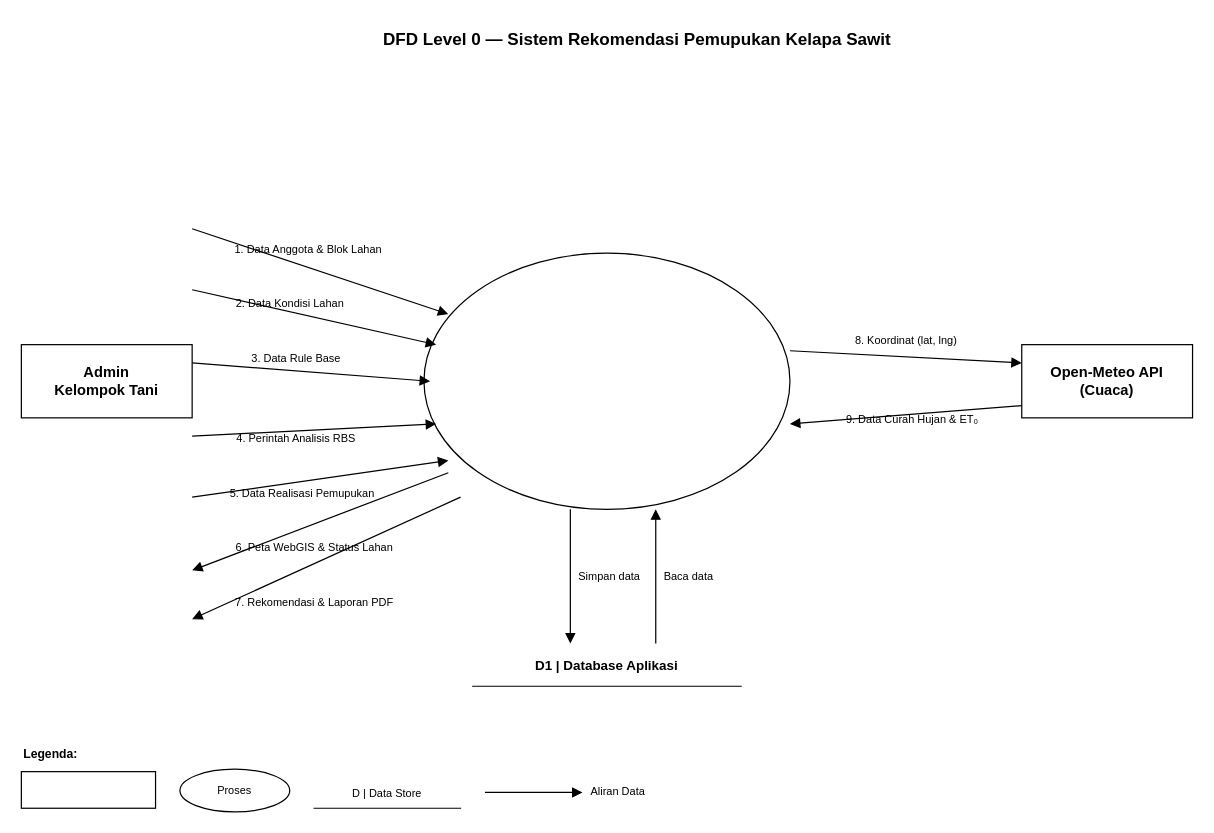
Image size: 1214x833. Some labels were removed from this diagram. The centre of each missing label's shape, as x and y in pixels:
"0 Sistem Rekomendasi Pemupukan Kelapa Sawit (WebGIS & RBS)" goes at pixel 606 380.
"Entitas Eksternal" goes at pixel 88 789.
